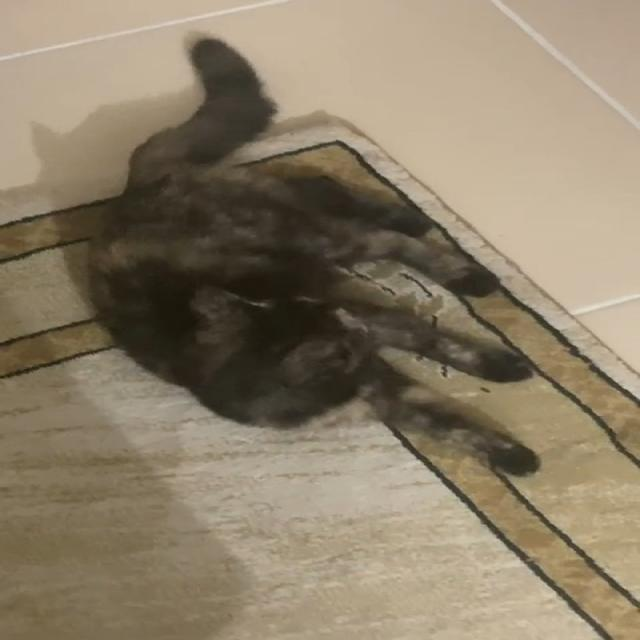authorized: (83, 30, 544, 478)
